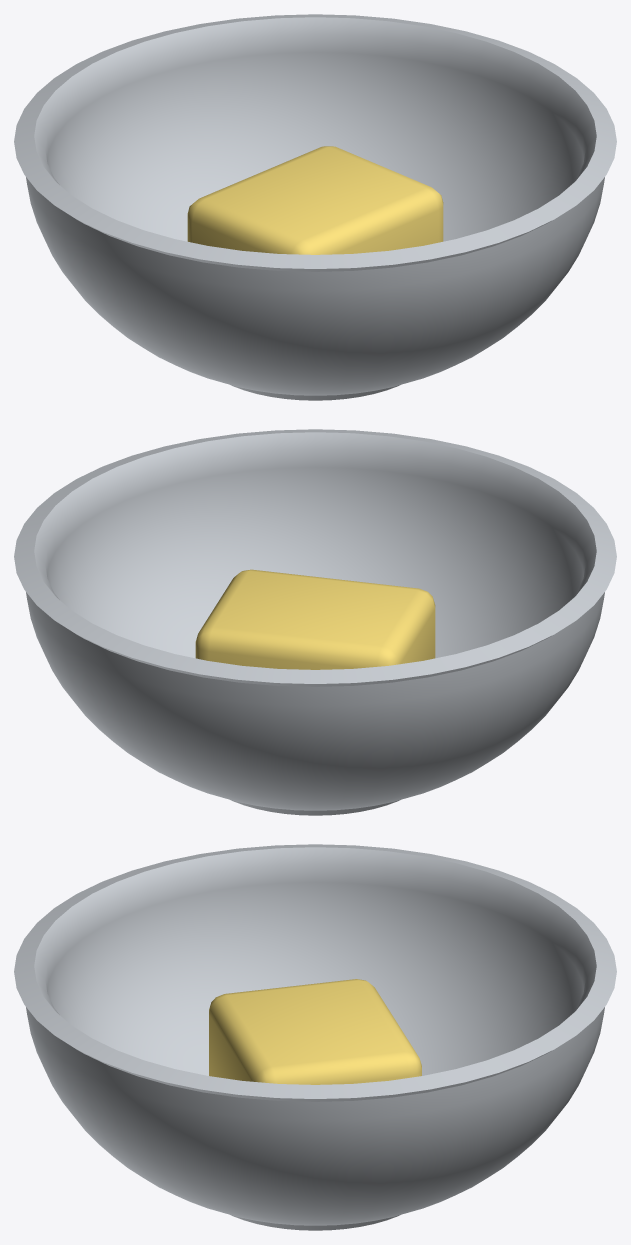
Rendered from Butter_Bowl.fbx.
The picture shows the model from 3 angles, top to bottom: view 1: azimuth 30°, elevation 25°; view 2: azimuth 150°, elevation 25°; view 3: azimuth 270°, elevation 25°; orthographic projection.
Parts seen in each view (by area): view 1: Butter_Bowl; view 2: Butter_Bowl; view 3: Butter_Bowl.
Part boxes in pixels (<box>): Butter_Bowl: <box>14,14,616,400</box>; Butter_Bowl: <box>14,429,616,815</box>; Butter_Bowl: <box>14,844,616,1230</box>.
Bounding box in the file's own units: 0.097 × 0.0382 × 0.097.
